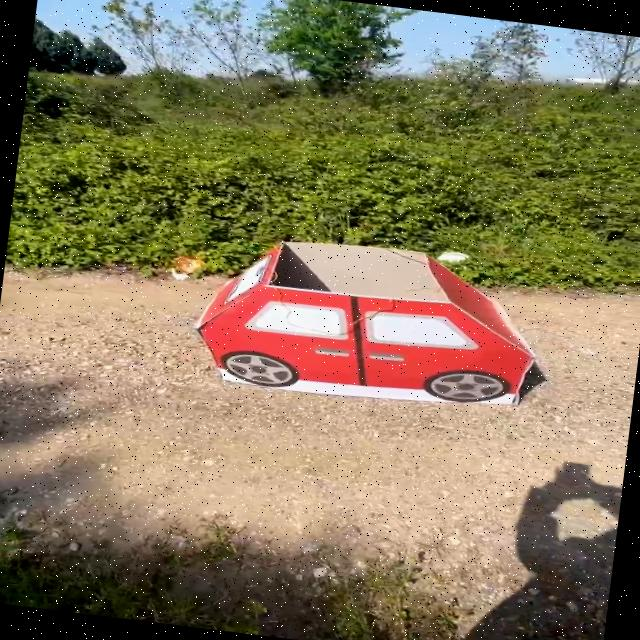red_car: (161, 218, 587, 437)
